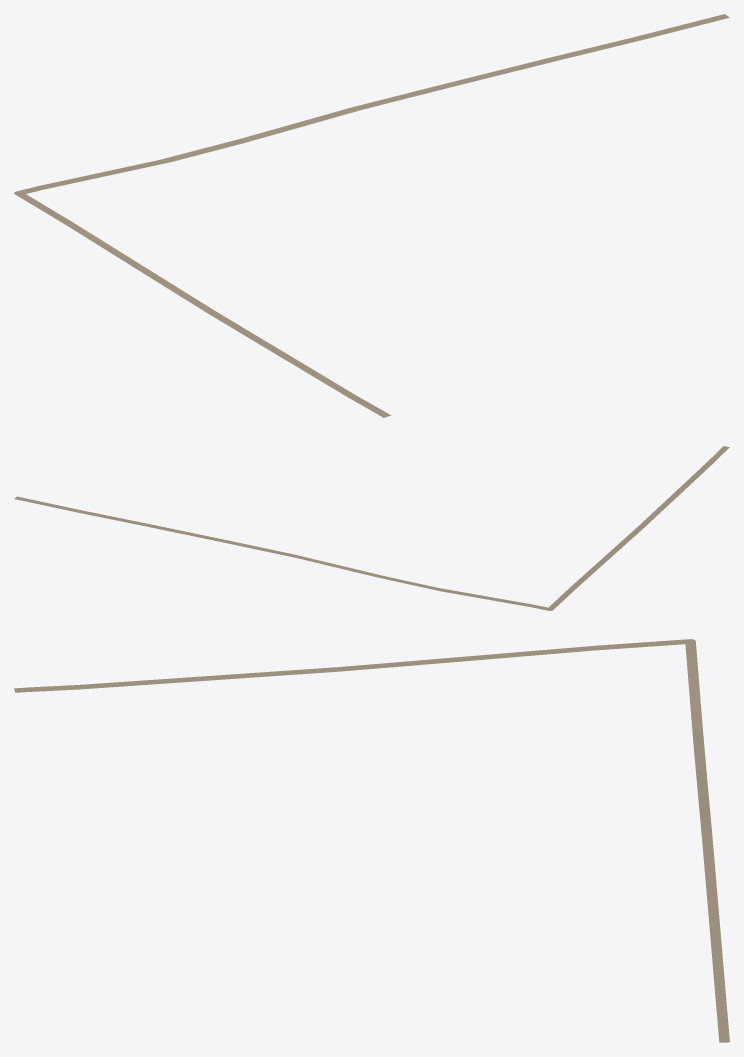
File: farm_13_18_track.glb
The picture shows the model from 3 angles, top to bottom: view 1: azimuth 30°, elevation 25°; view 2: azimuth 150°, elevation 25°; view 3: azimuth 270°, elevation 25°; orthographic projection. The views are drawn at different scales.
Parts seen in each view (by area): view 1: geometry_0; view 2: geometry_0; view 3: geometry_0.
Boxes of the visible parts, x1,y1,x2,y2 form: geometry_0: (14,14,729,417); geometry_0: (14,446,729,610); geometry_0: (14,639,729,1042).
Bounding box in the file's own units: 286 × 5.37 × 221.
